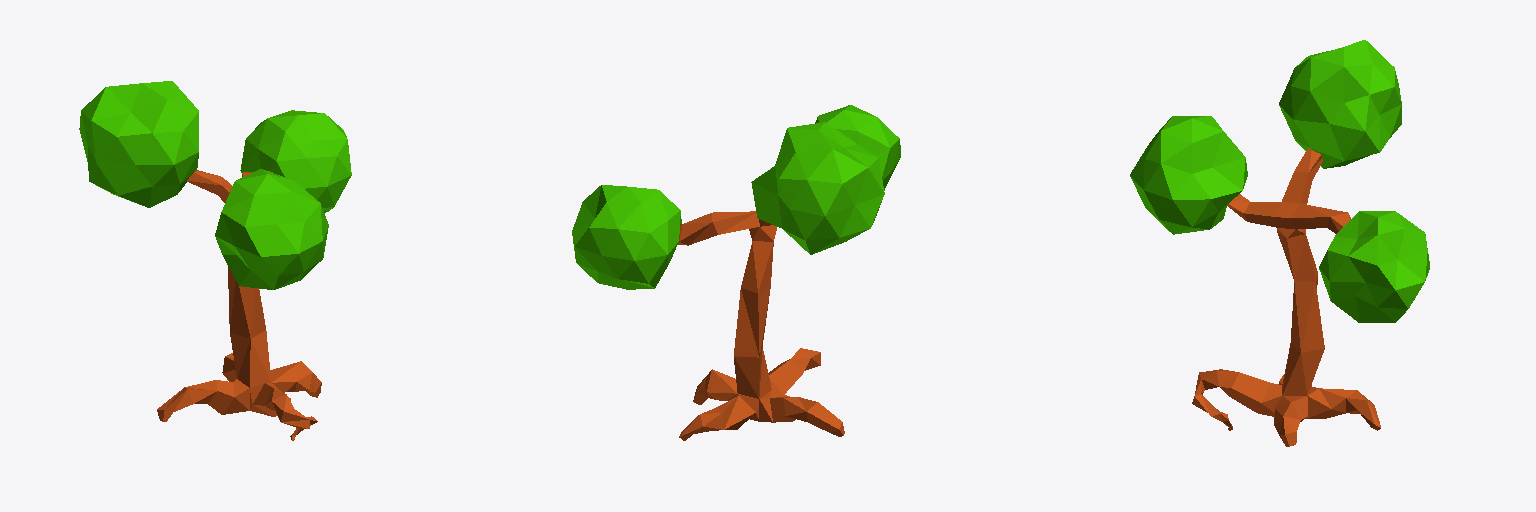
Rendered from Tree.obj.
3 views of the same model, side by side, from view 1: azimuth 30°, elevation 25°; view 2: azimuth 150°, elevation 25°; view 3: azimuth 270°, elevation 25° (orthographic).
Parts seen in each view (by area): view 1: Leafs3_Cube.003, Leafs2_Cube.002, Trunk_Cube, Leafs1_Cube.001; view 2: Trunk_Cube, Leafs3_Cube.003, Leafs1_Cube.001, Leafs2_Cube.002; view 3: Trunk_Cube, Leafs3_Cube.003, Leafs2_Cube.002, Leafs1_Cube.001.
Boxes of the visible parts, box(x1,y1,x2,y2) form: Leafs3_Cube.003: box(79, 81, 198, 207); Leafs2_Cube.002: box(215, 169, 328, 289); Trunk_Cube: box(157, 170, 321, 440); Leafs1_Cube.001: box(240, 110, 351, 212); Trunk_Cube: box(678, 211, 844, 440); Leafs3_Cube.003: box(751, 122, 884, 254); Leafs1_Cube.001: box(572, 185, 681, 289); Leafs2_Cube.002: box(815, 105, 900, 190); Trunk_Cube: box(1192, 148, 1380, 446); Leafs3_Cube.003: box(1279, 40, 1401, 168); Leafs2_Cube.002: box(1130, 116, 1247, 234); Leafs1_Cube.001: box(1319, 211, 1429, 322).
Bounding box in the file's own units: 13.8 × 16.13 × 12.99.